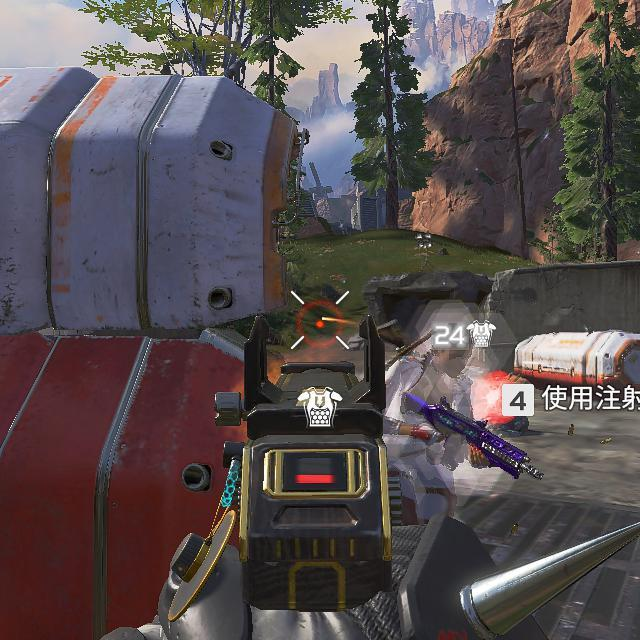avatar: (385, 322, 489, 535)
object: (471, 368, 515, 425)
